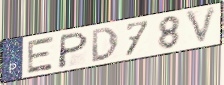7: (125, 18, 151, 57)
8: (157, 14, 182, 51)
D: (90, 25, 120, 64)
E: (25, 34, 57, 75)
P: (56, 30, 90, 70)
V: (184, 4, 219, 47)
